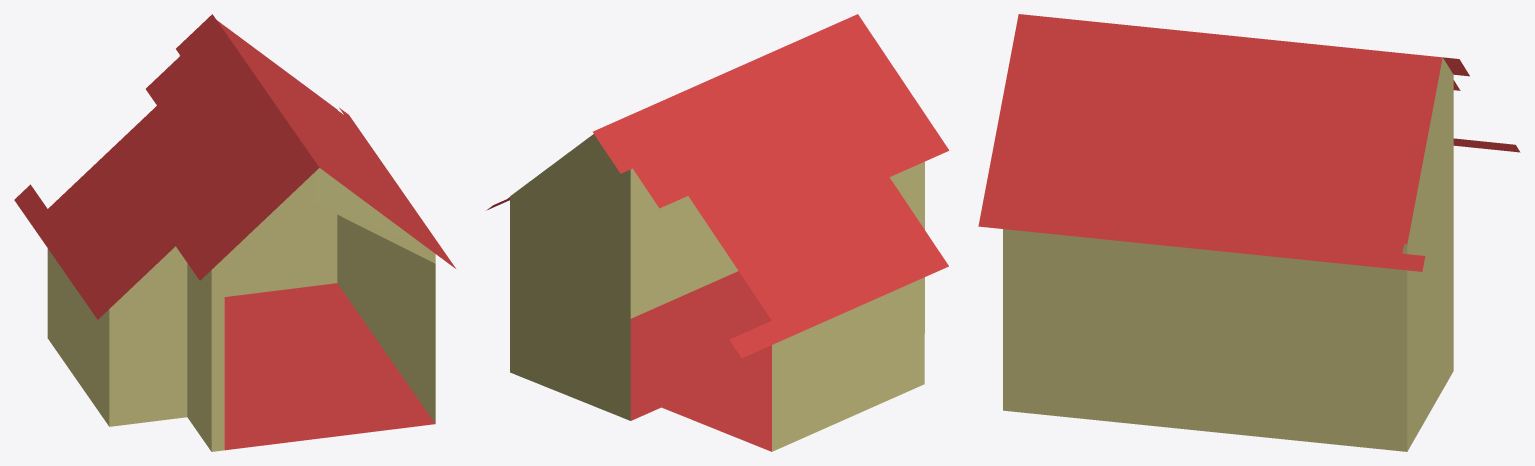
3 renders of one model, left to right at view 1: azimuth 30°, elevation 25°; view 2: azimuth 150°, elevation 25°; view 3: azimuth 270°, elevation 25°, orthographic. The views are drawn at different scales.
Bounding box in the file's own units: 17.91 × 19.86 × 13.45.
